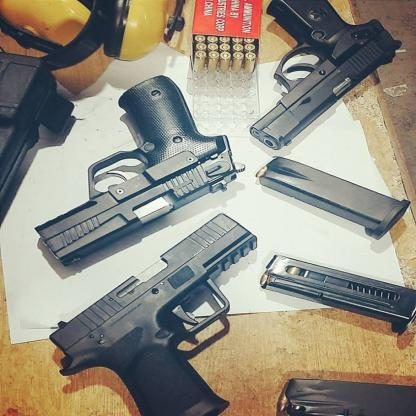Pistol: (31, 207, 300, 414), (1, 89, 255, 272)
